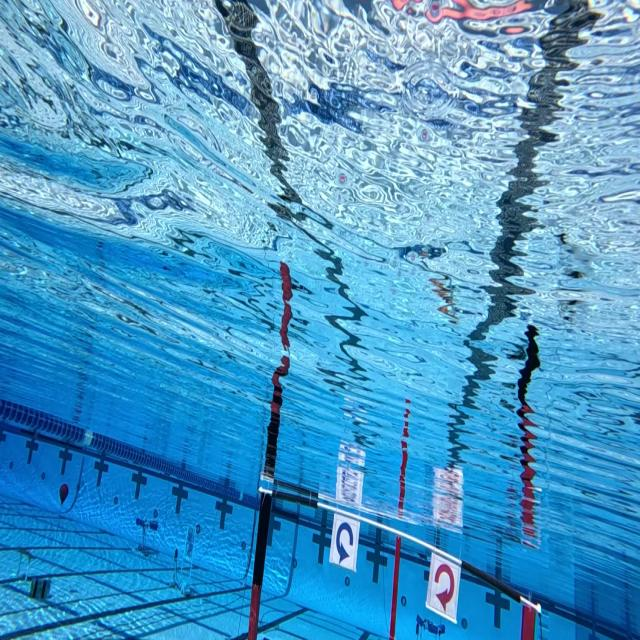blue_side: (324, 502, 365, 578)
red_side: (421, 535, 467, 627)
